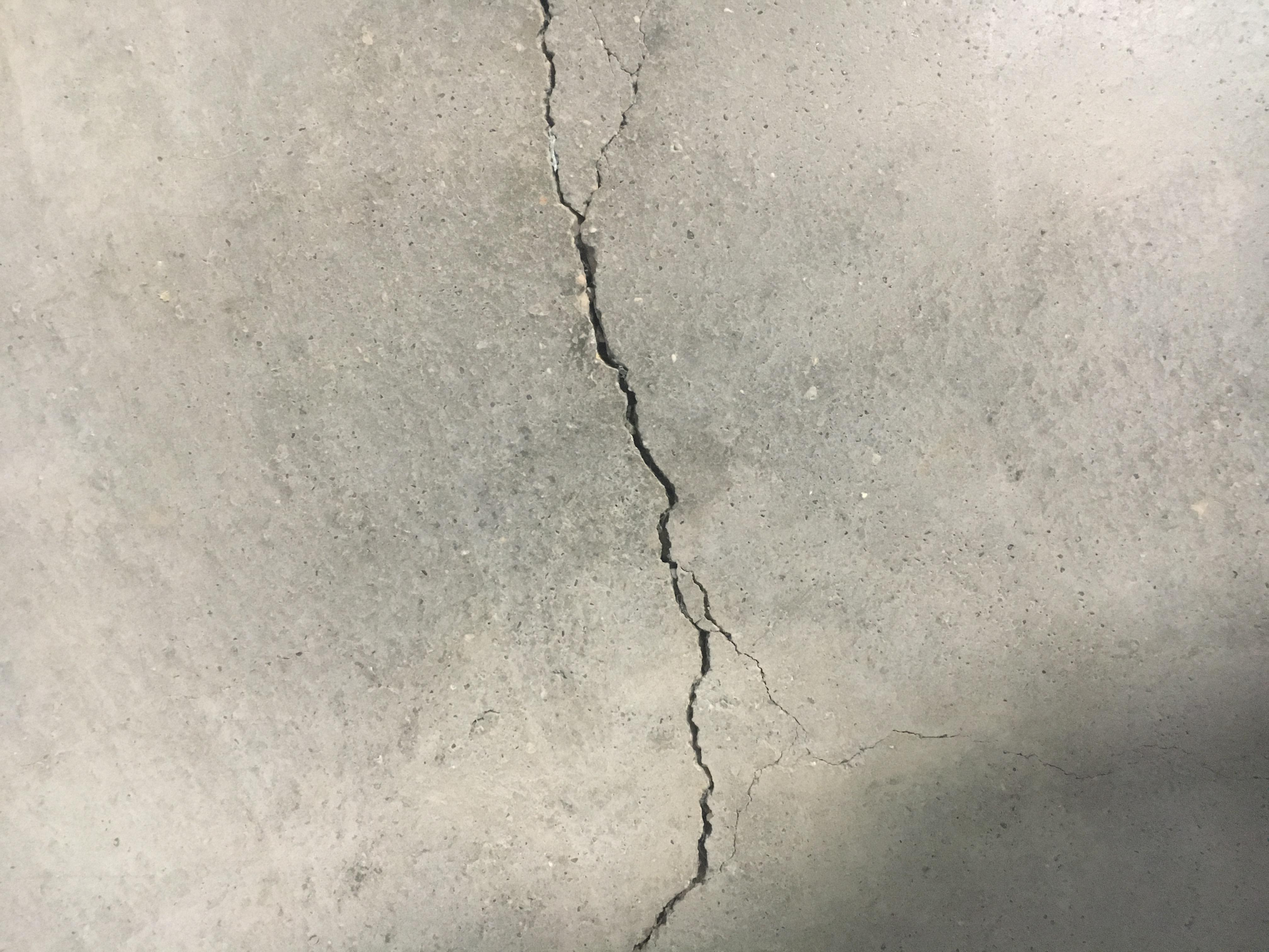Vertical Crack: (529, 2, 958, 947)
